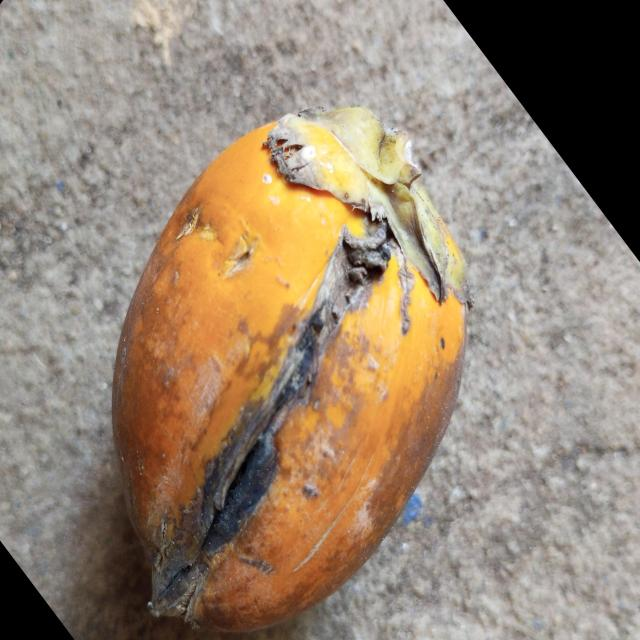damaged: (110, 107, 468, 640)
